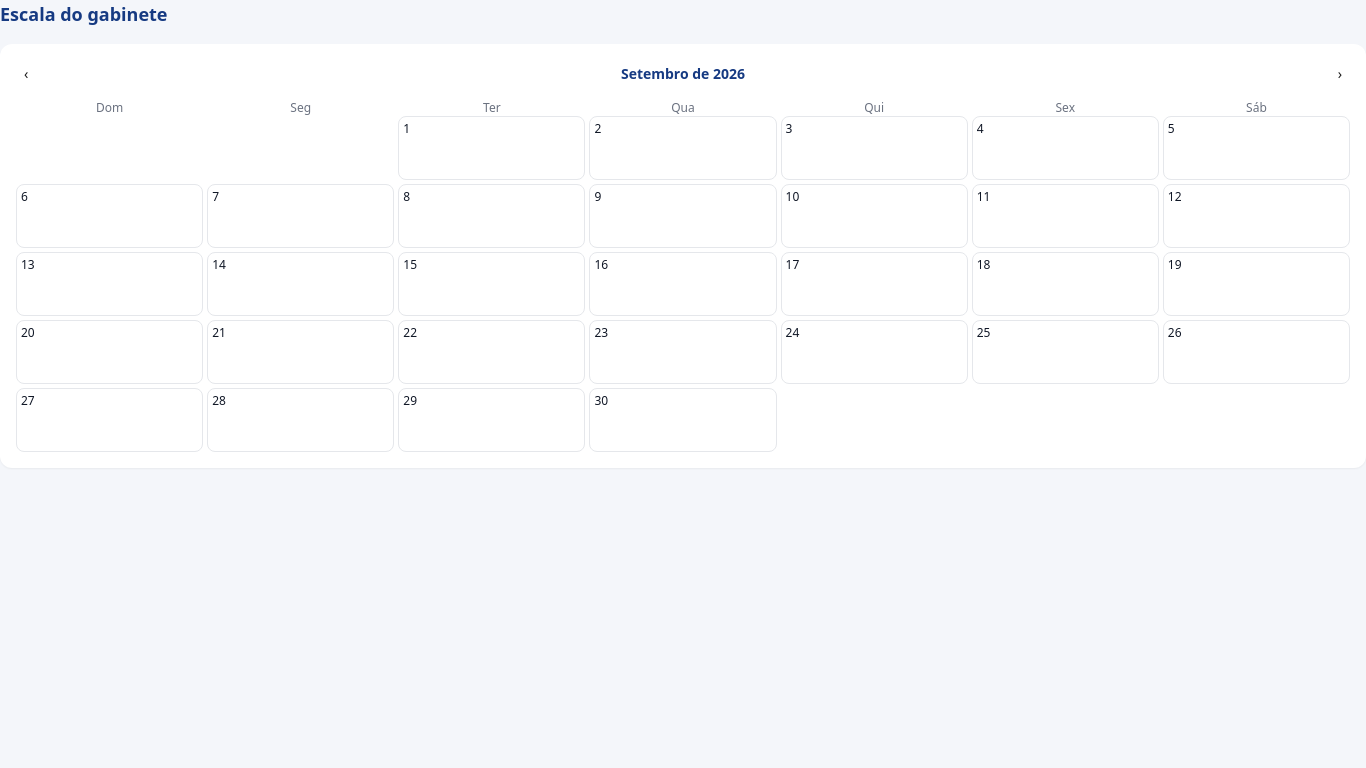
it: EscalaPage › abre o painel do dia ao clicar num dia, editável para o chefe
Expected: the text "Setembro de 2026" is shown, 621,64 -> 745,84
Step 1. Click the button "15" → (492, 284), box 398,252 -> 585,316
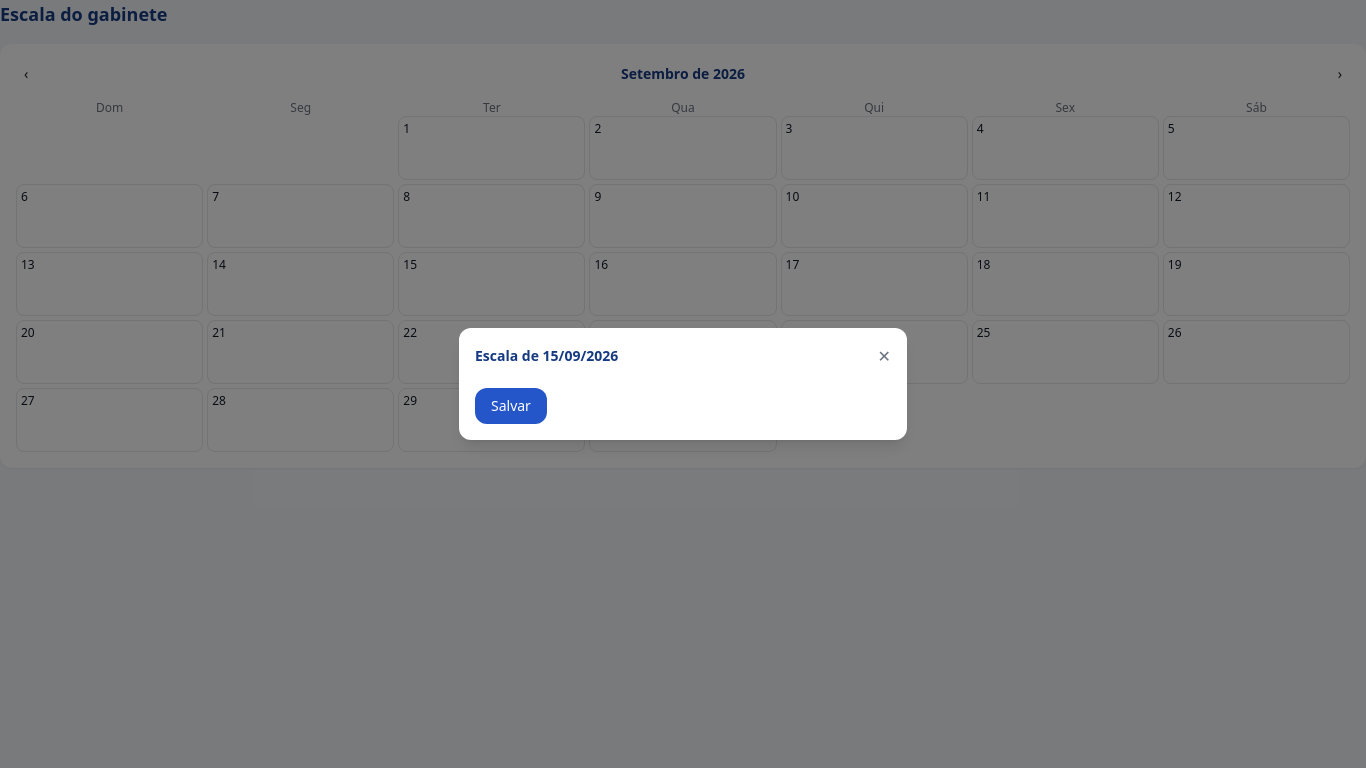
Expected: the heading "Escala de 15/09/2026" is shown, 475,346 -> 618,366
